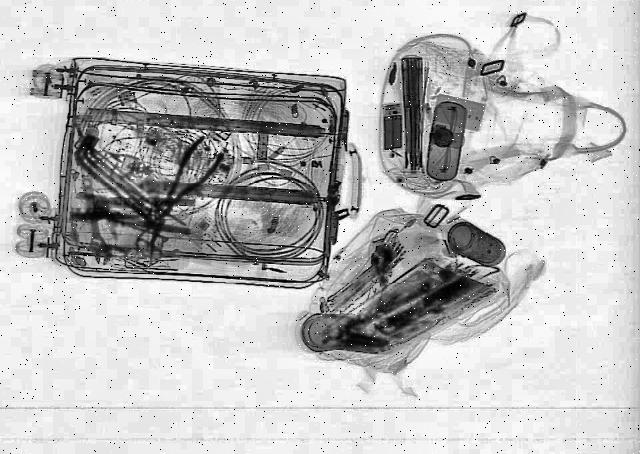Pliers: (144, 134, 236, 226), (68, 189, 200, 237)
Wrench: (78, 180, 116, 266)
